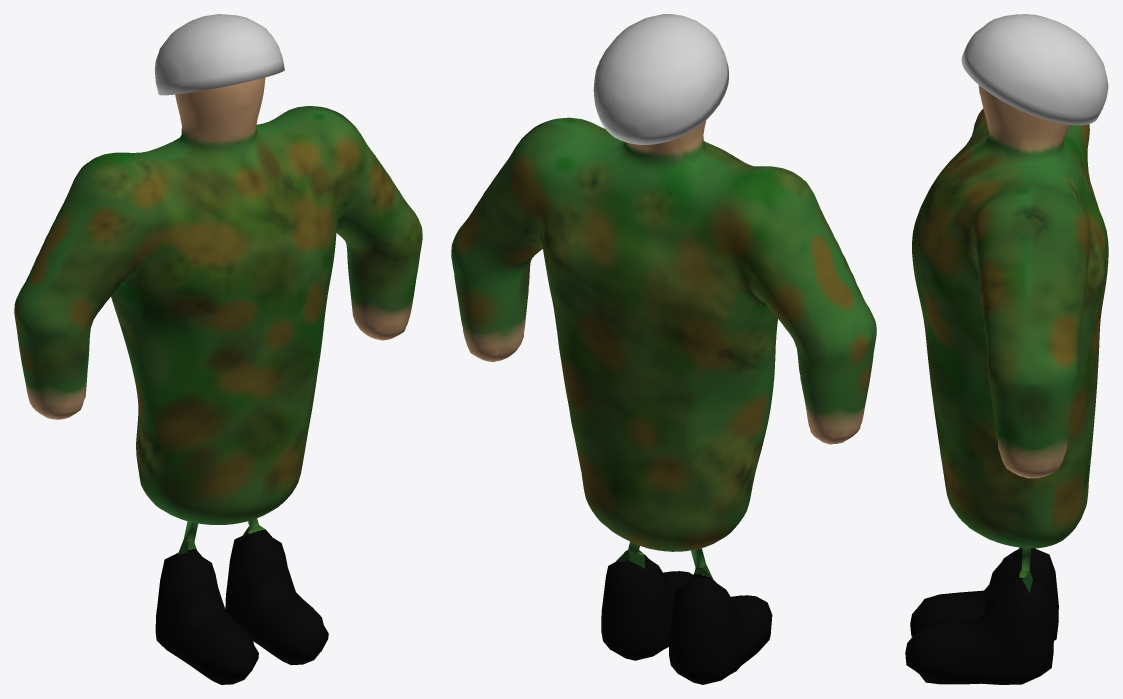
The model's file is Soldier_New2.fbx.
The picture shows the model from 3 angles, left to right: view 1: azimuth 30°, elevation 25°; view 2: azimuth 150°, elevation 25°; view 3: azimuth 270°, elevation 25°; orthographic projection. The views are drawn at different scales.
Parts seen in each view (by area): view 1: Body_Mat; view 2: Body_Mat; view 3: Body_Mat.
Boxes of the visible parts, left/top/right/bottom form: Body_Mat: left=14, top=14, right=422, bottom=684; Body_Mat: left=451, top=14, right=876, bottom=684; Body_Mat: left=905, top=14, right=1108, bottom=684.
Bounding box in the file's own units: 166 × 251 × 71.06.
